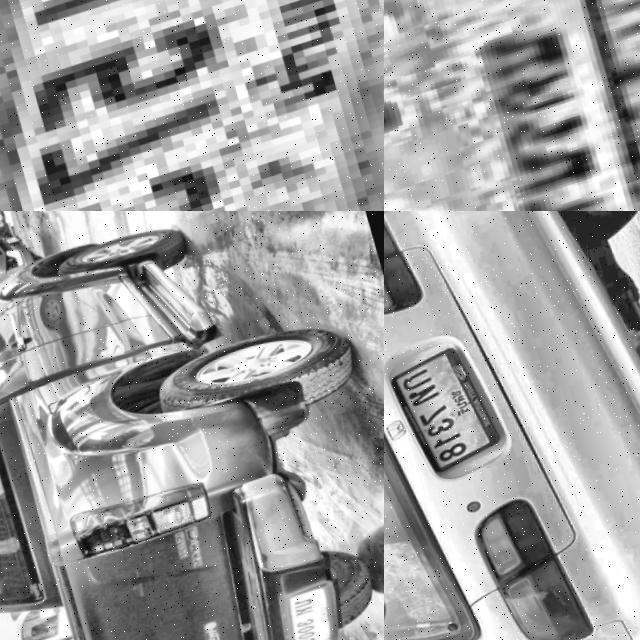license-plate: (0, 0, 384, 211), (384, 0, 640, 211), (384, 345, 501, 490), (272, 591, 335, 640)
